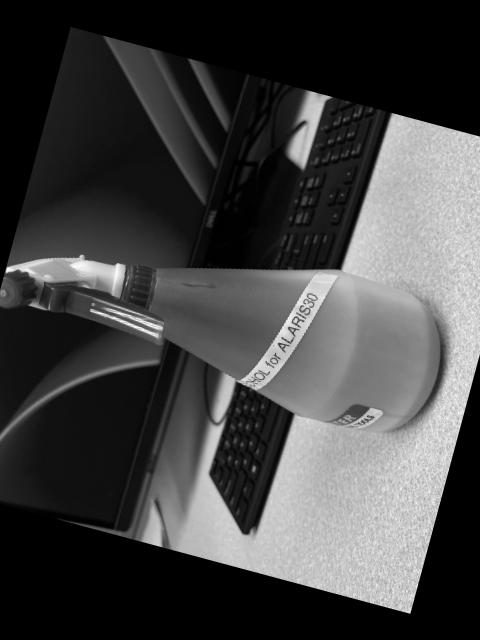AlcoholSpray: (0, 255, 445, 433)
